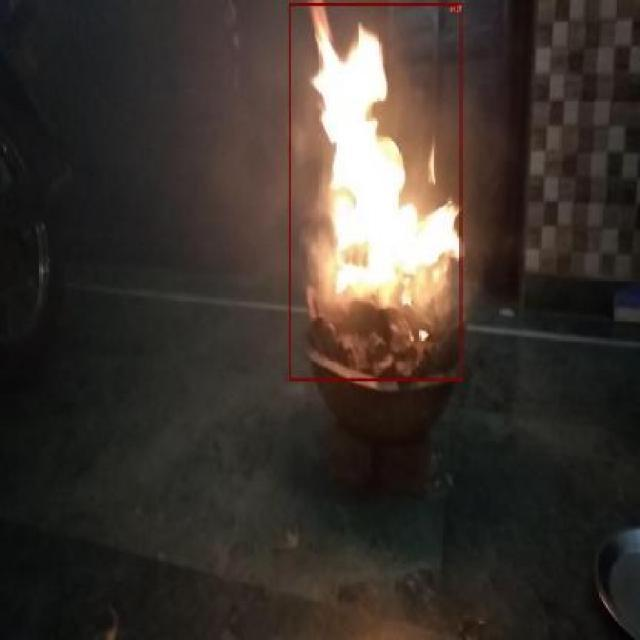Fire: (290, 3, 462, 380)
